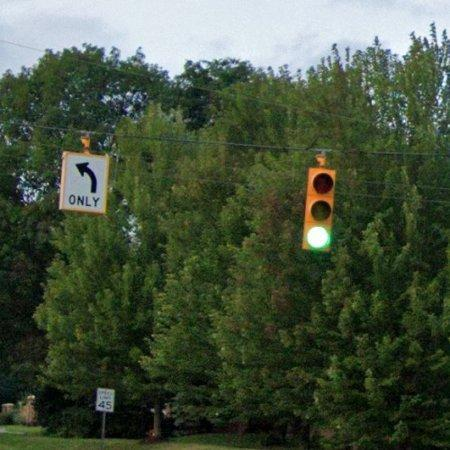traffic lights: (297, 167, 339, 253)
